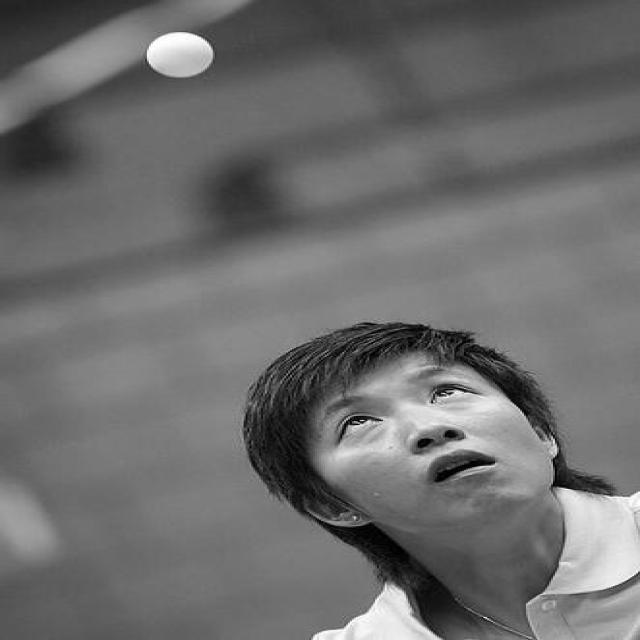ping-pong-ball: (144, 28, 216, 78)
